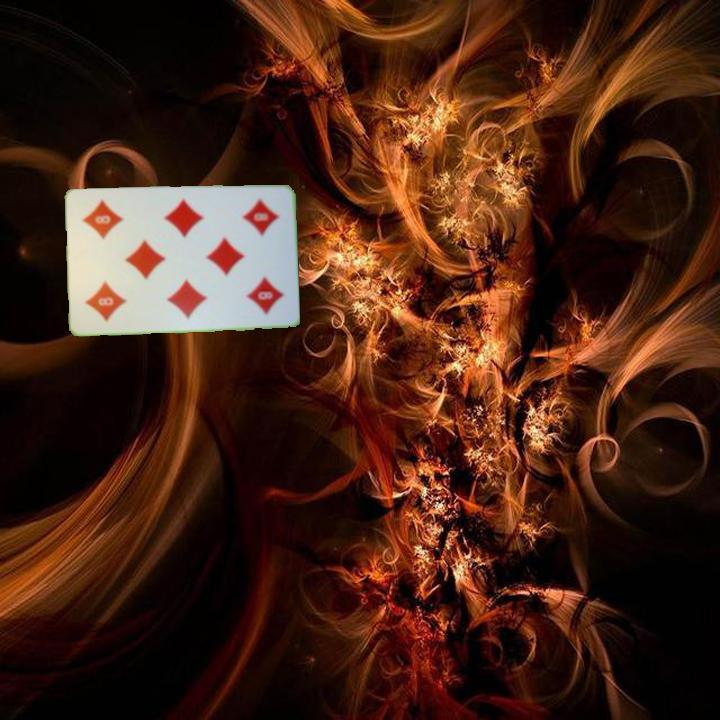d_8.png: (76, 257, 136, 326), (228, 191, 287, 260)
